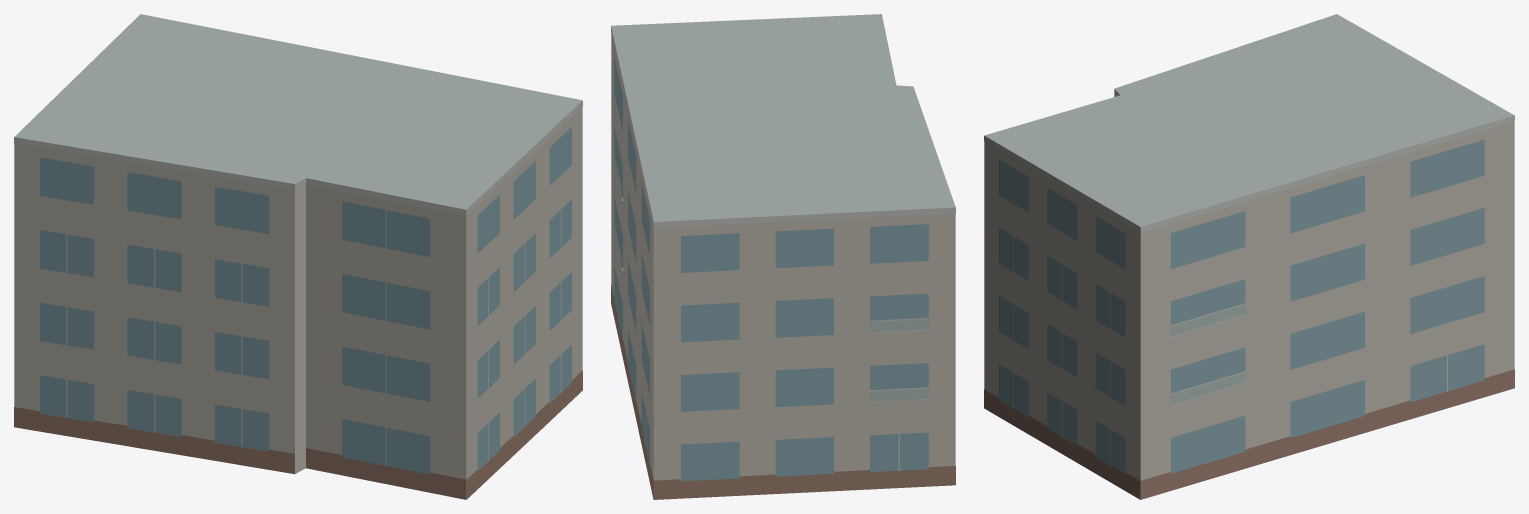
The model's file is survey-upis-32528369.glb.
3 views of the same model, side by side, from view 1: azimuth 30°, elevation 25°; view 2: azimuth 150°, elevation 25°; view 3: azimuth 270°, elevation 25° (orthographic). The views are drawn at different scales.
Parts seen in each view (by area): view 1: survey-upis-32528369.tmp; view 2: survey-upis-32528369.tmp; view 3: survey-upis-32528369.tmp.
Boxes of the visible parts, x1=… form: survey-upis-32528369.tmp: x1=14, y1=14, x2=582, y2=499; survey-upis-32528369.tmp: x1=611, y1=14, x2=955, y2=499; survey-upis-32528369.tmp: x1=984, y1=14, x2=1514, y2=499.
Bounding box in the file's own units: 19.1 × 11.4 × 20.1.
